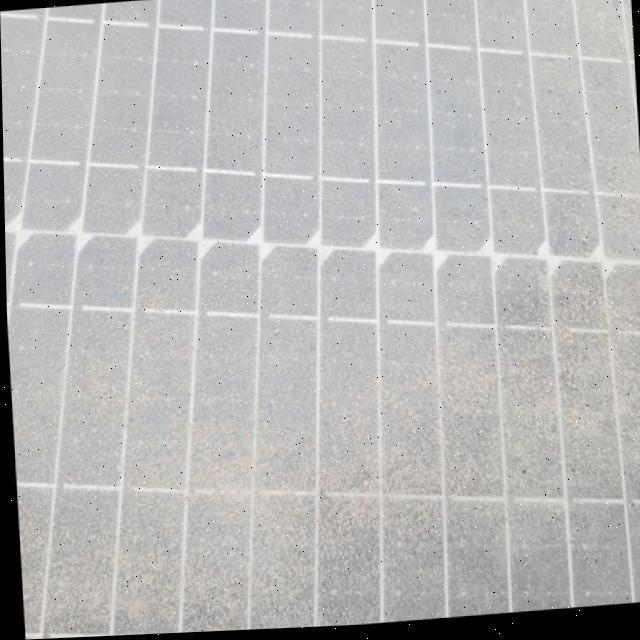Surface Contaminant: (0, 0, 640, 404)
